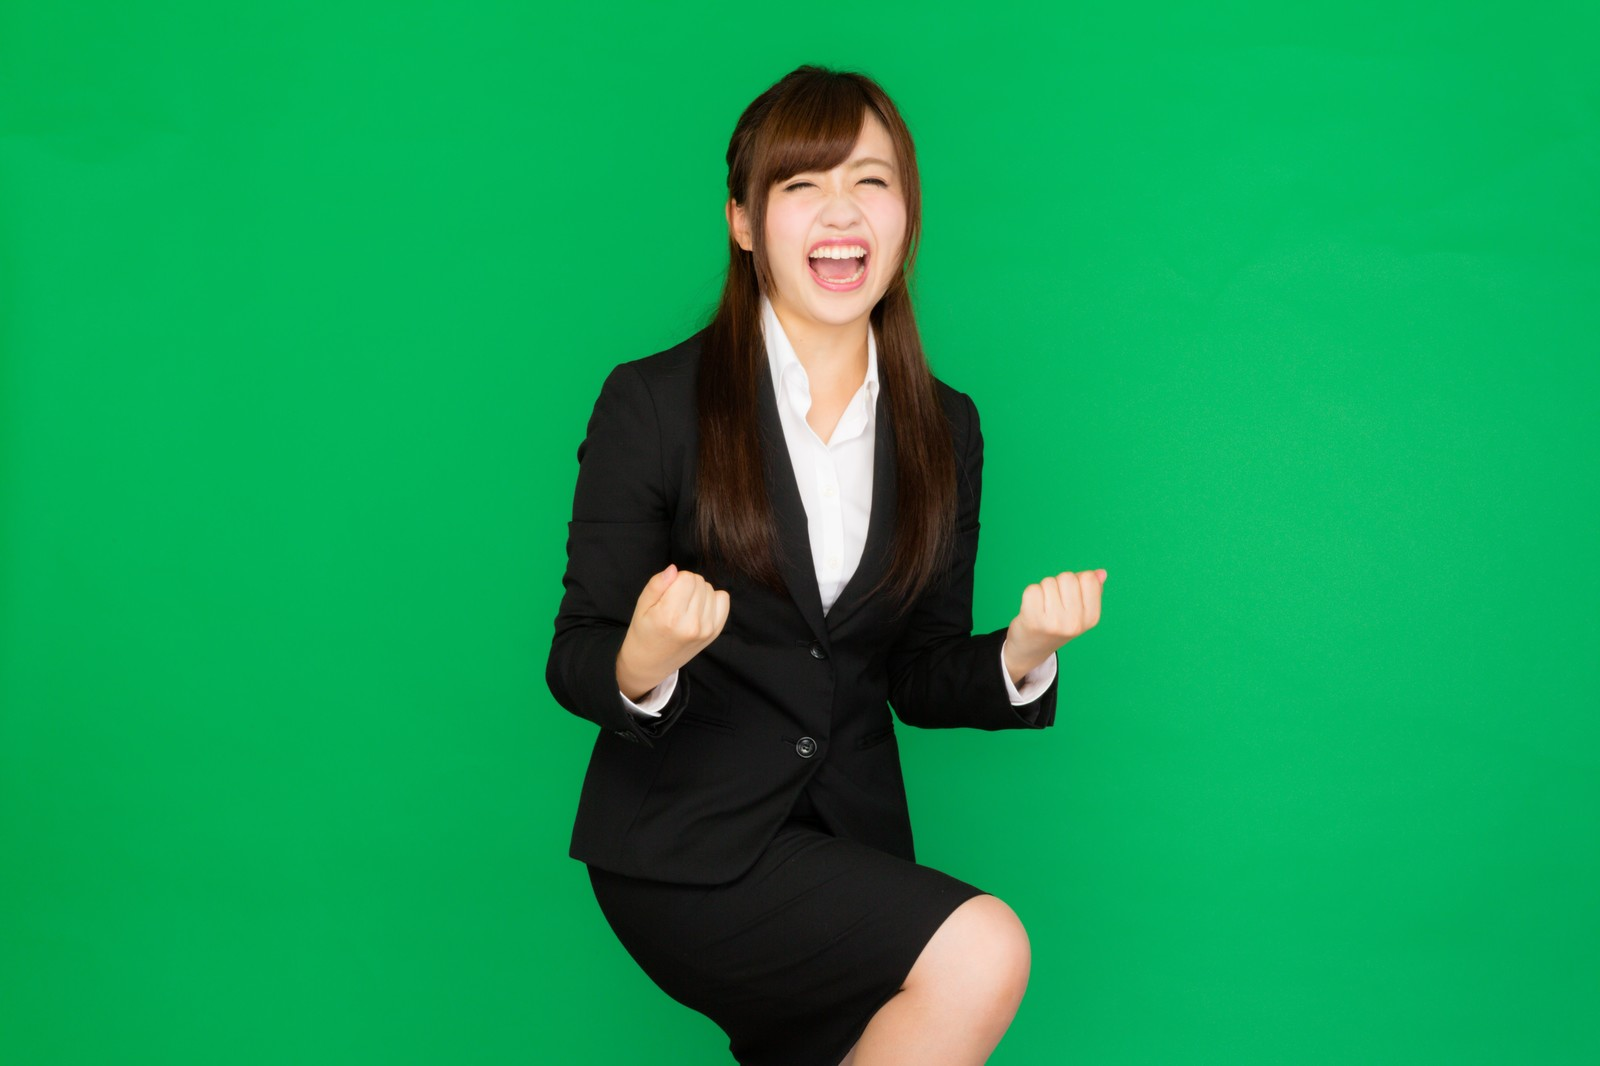face: (726, 108, 911, 325)
hand: (620, 563, 732, 688), (1006, 567, 1110, 650)
